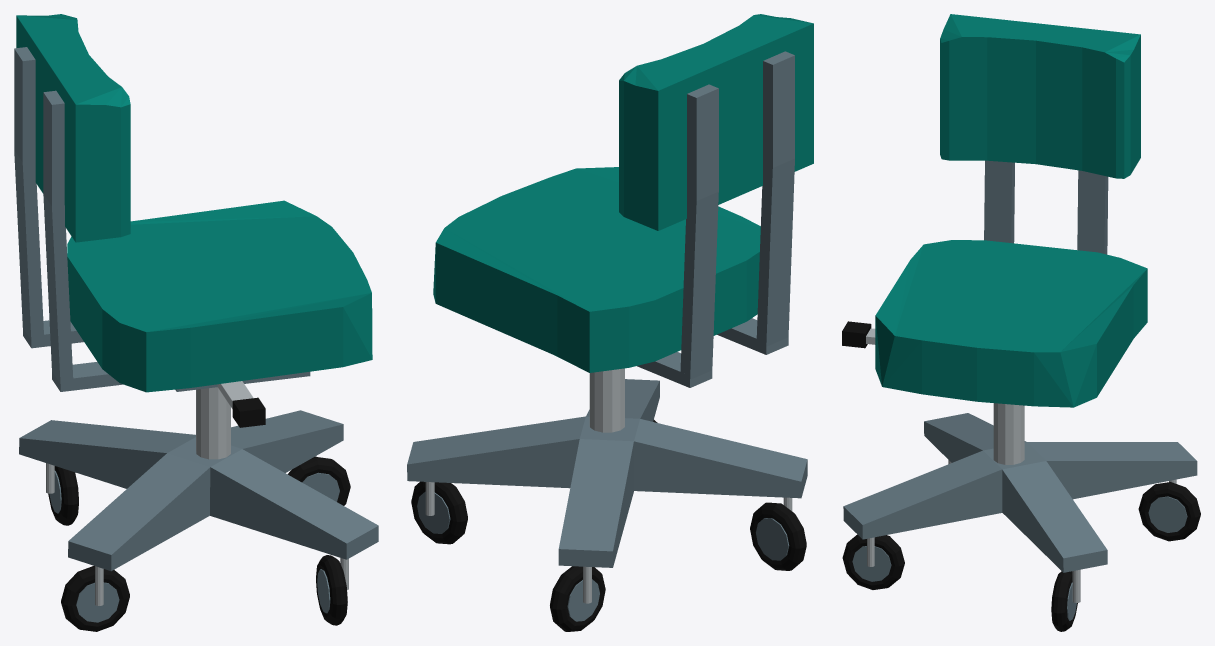
The model's file is Chair1.gltf.
3 views of the same model, side by side, from view 1: azimuth 30°, elevation 25°; view 2: azimuth 150°, elevation 25°; view 3: azimuth 270°, elevation 25° (orthographic). The views are drawn at different scales.
Parts seen in each view (by area): view 1: node_MeshObject-688171328-PolyPaper15; view 2: node_MeshObject-688171328-PolyPaper15; view 3: node_MeshObject-688171328-PolyPaper15.
Part boxes in pixels (x1,y1,x2,y2): node_MeshObject-688171328-PolyPaper15: [14, 14, 378, 631]; node_MeshObject-688171328-PolyPaper15: [407, 14, 813, 631]; node_MeshObject-688171328-PolyPaper15: [842, 14, 1200, 631].
Size of the model in its own units: 0.0869 by 0.1327 by 0.0895.
